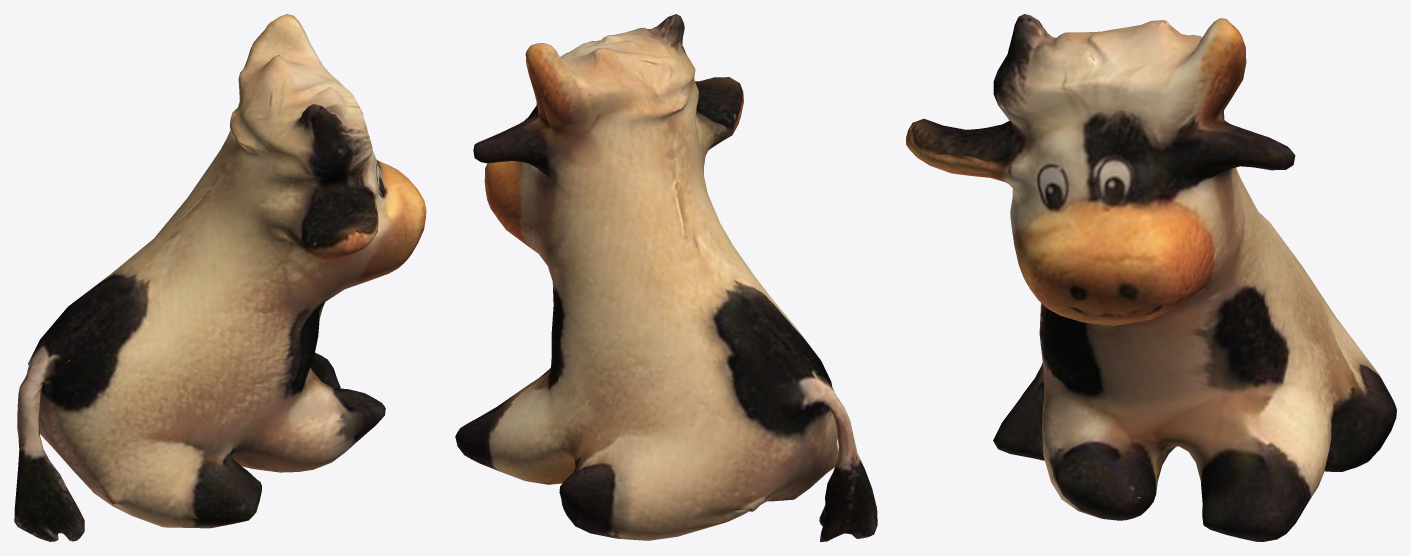
3 renders of one model, left to right at view 1: azimuth 30°, elevation 25°; view 2: azimuth 150°, elevation 25°; view 3: azimuth 270°, elevation 25°, orthographic. The views are drawn at different scales.
Visible parts, largest first — view 1: ORITGT01; view 2: ORITGT01; view 3: ORITGT01.
Part boxes in pixels (x1=…): ORITGT01: x1=14, y1=14, x2=426, y2=541; ORITGT01: x1=455, y1=14, x2=877, y2=541; ORITGT01: x1=906, y1=14, x2=1396, y2=541.
Bounding box in the file's own units: 8.96 × 8.09 × 9.85.
Materials: 2 (2 with a texture image).
